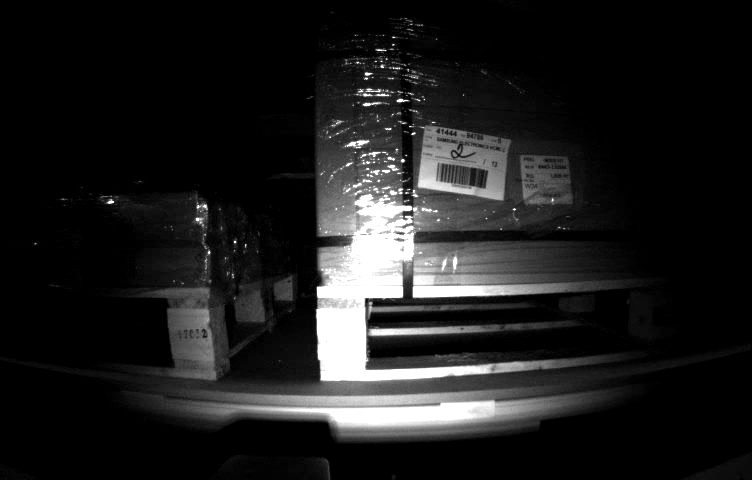True Barcode: (518, 152, 575, 209)
